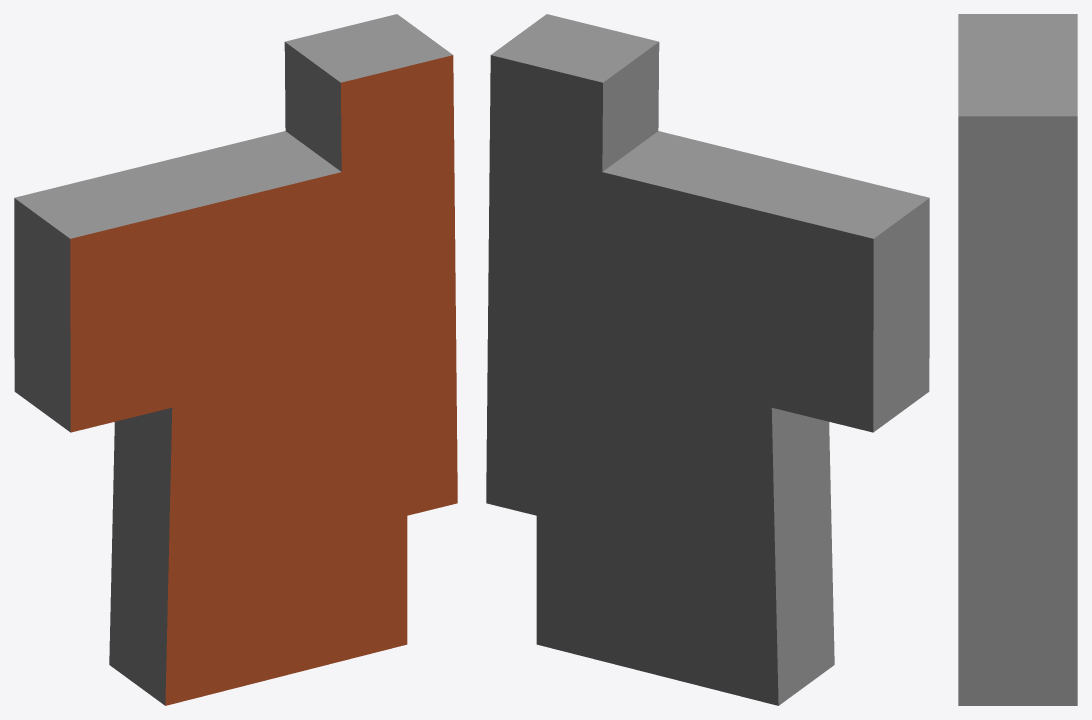
The model's file is construction_1913_assumed_A_Casa_h6m.obj.
The picture shows the model from 3 angles, left to right: view 1: azimuth 30°, elevation 25°; view 2: azimuth 150°, elevation 25°; view 3: azimuth 270°, elevation 25°; orthographic projection. The views are drawn at different scales.
Parts seen in each view (by area): view 1: construction_1913_assumed_A_Casa; view 2: construction_1913_assumed_A_Casa; view 3: construction_1913_assumed_A_Casa.
Boxes of the visible parts, <box> form: construction_1913_assumed_A_Casa: <box>14,14,457,705</box>; construction_1913_assumed_A_Casa: <box>486,14,929,705</box>; construction_1913_assumed_A_Casa: <box>958,14,1077,705</box>.
Bounding box in the file's own units: 23.91 × 34.24 × 6.
